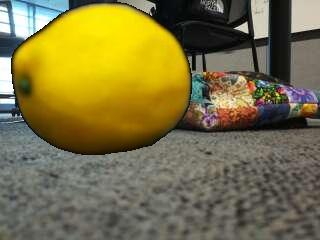lemon: (12, 3, 190, 155)
